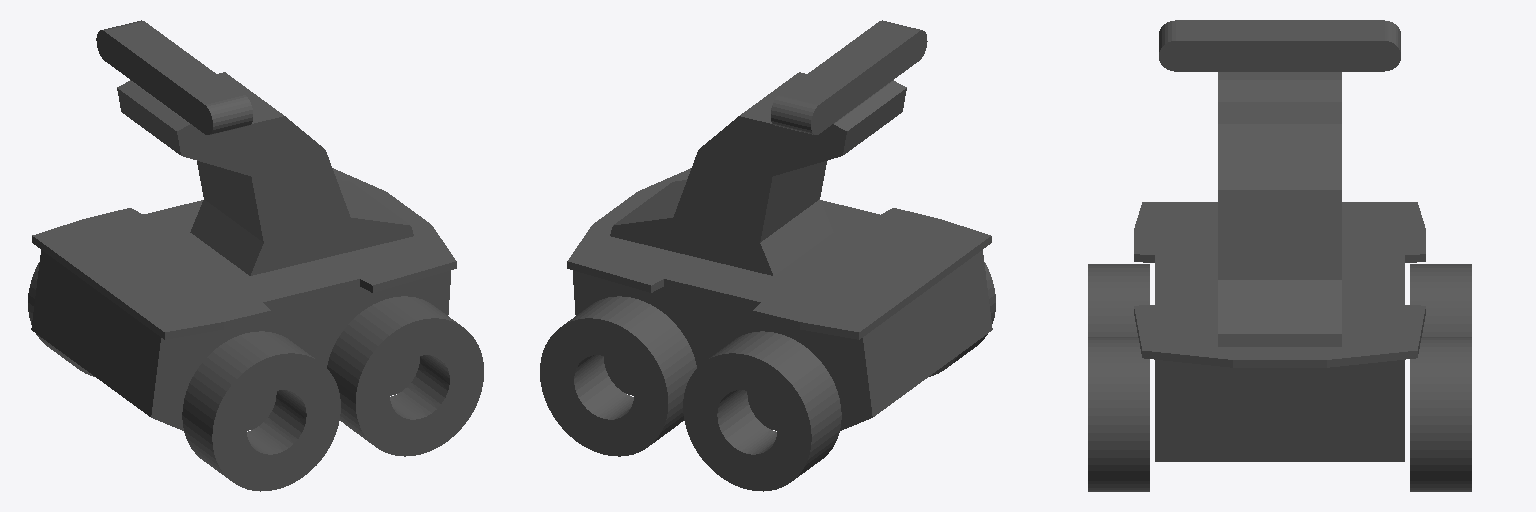
robot.urdf — oculusPrime:
<robot name="oculusPrime">
	
  <link name="base_link">
    <inertial>
      <mass value="4.0"/>
      <origin xyz="0 0 0"/>
      <inertia ixx="1.0" ixy="0.0" ixz="0.0" iyy="1.0" iyz="0.0" izz="1.0"/>
    </inertial>
    <visual>
		<origin xyz="0 0 0" rpy="0 0 0" />
		<geometry>
			<!--
             <box size="0.275 0.283 0.306" />
             -->
             <mesh filename="package://oculusprime/description/meshes/oculus_prime_urdf.stl" scale="0.0254 0.0254 0.0254"/>
		</geometry>
		
      <material name="grey">
        <color rgba="0.4 0.4 0.4 1.0"/>
      </material>
      
    </visual>
    <collision>
		<origin xyz="0 0 0.153" rpy="0 0 0" />
		<geometry>
             <box size="0.275 0.283 0.306" />
		</geometry>
    </collision>
  </link>

</robot>

--- What the picture shows (computed from the rendered views, not written in the file) ---
3 views of the same robot in one strip: view 1: azimuth 30°, elevation 25°; view 2: azimuth 150°, elevation 25°; view 3: azimuth 270°, elevation 25° (orthographic).
Model oculusPrime with 1 links and 0 joints (none), rooted at base_link, posed every joint at zero.
Visible links, largest first — view 1: base_link; view 2: base_link; view 3: base_link.
Link boxes in pixels (<box>): base_link: <box>28,20,483,491</box>; base_link: <box>540,20,995,491</box>; base_link: <box>1088,20,1471,491</box>.
Size in the robot's own frame: 0.2818 by 0.2832 by 0.306 metres.
Meshes: 1 distinct files referenced, 1 mesh visuals loaded (1 binary STL).